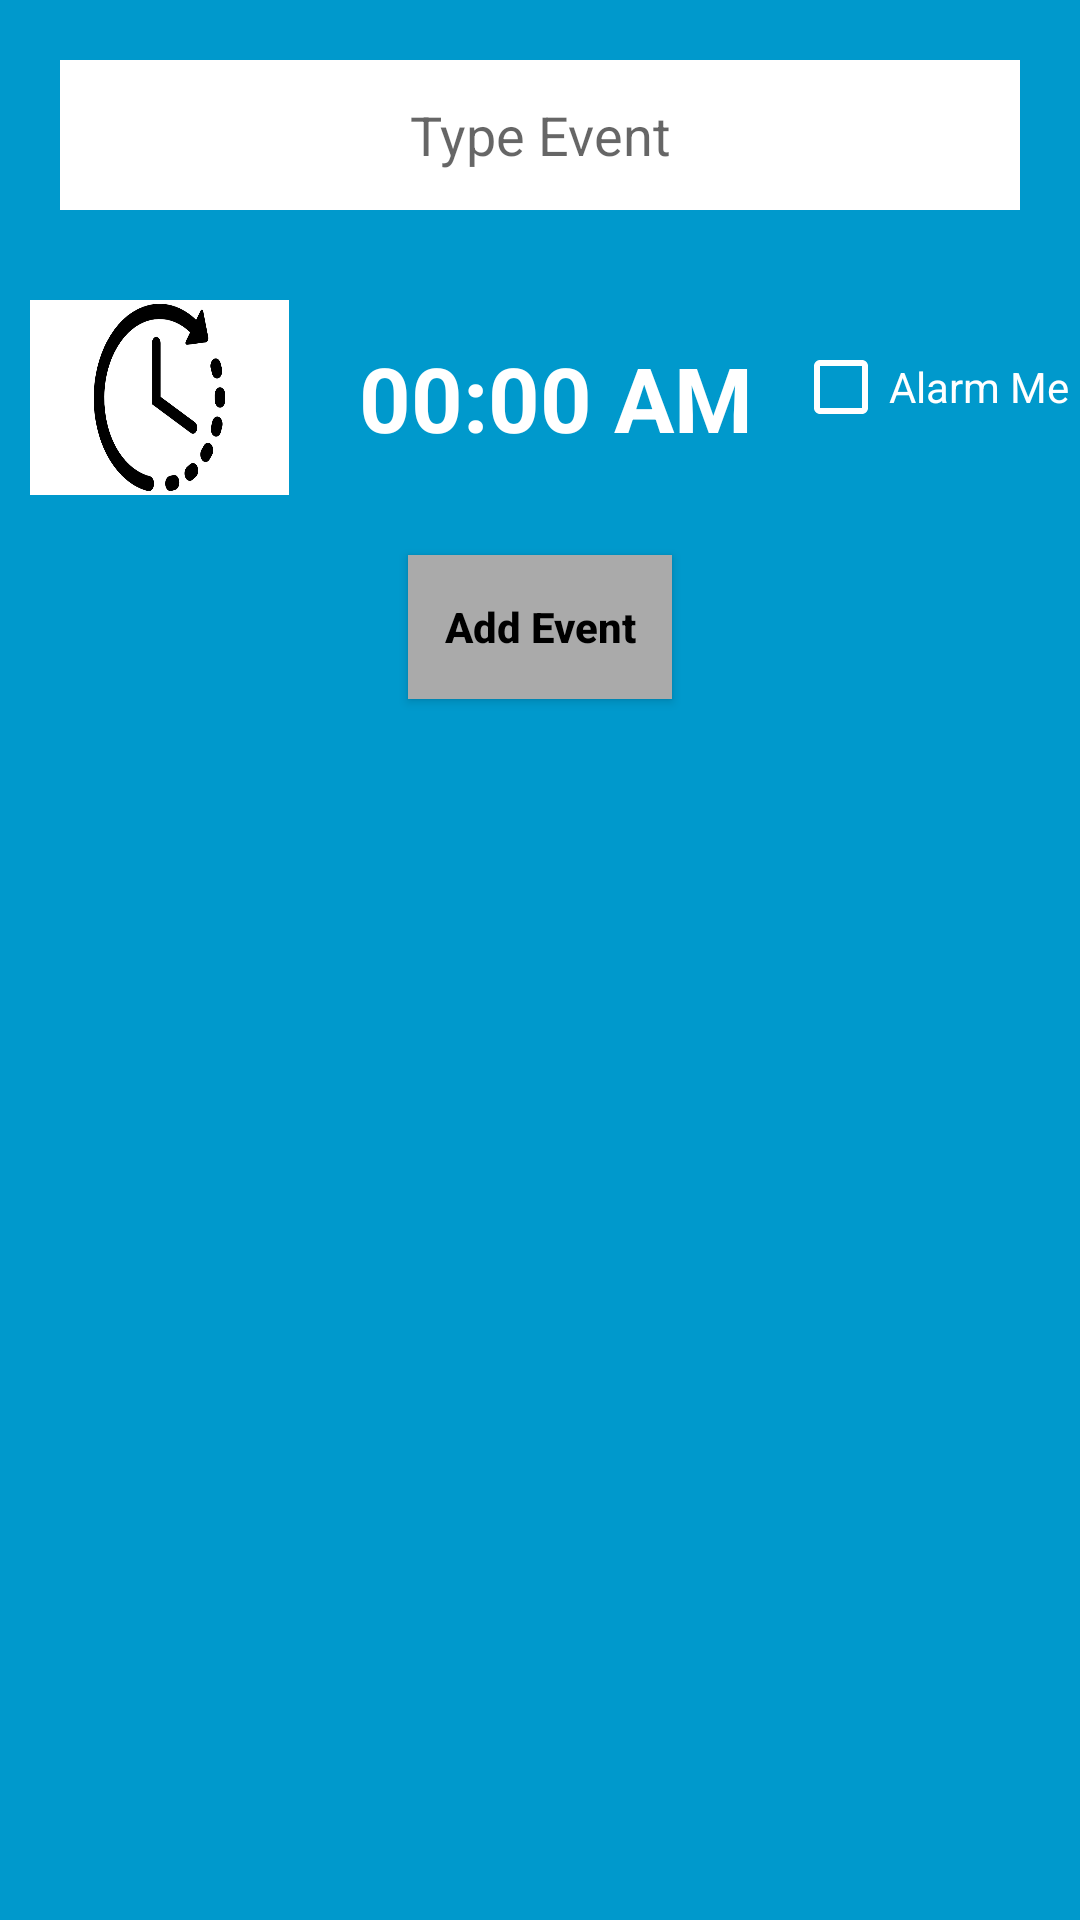

Icon click points for this 1080 x 1920 phone screenshot, format (x,y):
time: (159,397)
